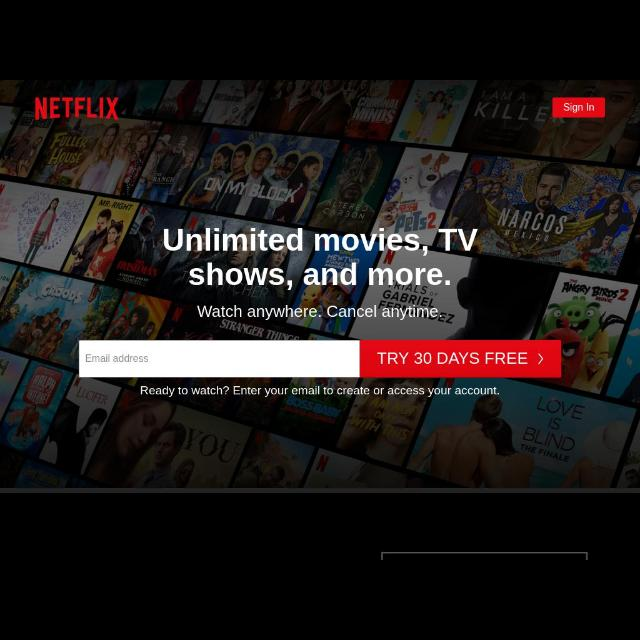backgroundimage: (1, 80, 640, 488)
icon: (538, 352, 544, 366)
image: (34, 96, 120, 120)
input: (78, 340, 360, 378)
text: (164, 228, 478, 290), (140, 386, 500, 398), (196, 305, 442, 321), (378, 352, 528, 364), (85, 354, 148, 362), (564, 103, 594, 113)
textbutton: (360, 340, 562, 378), (552, 97, 606, 117)
